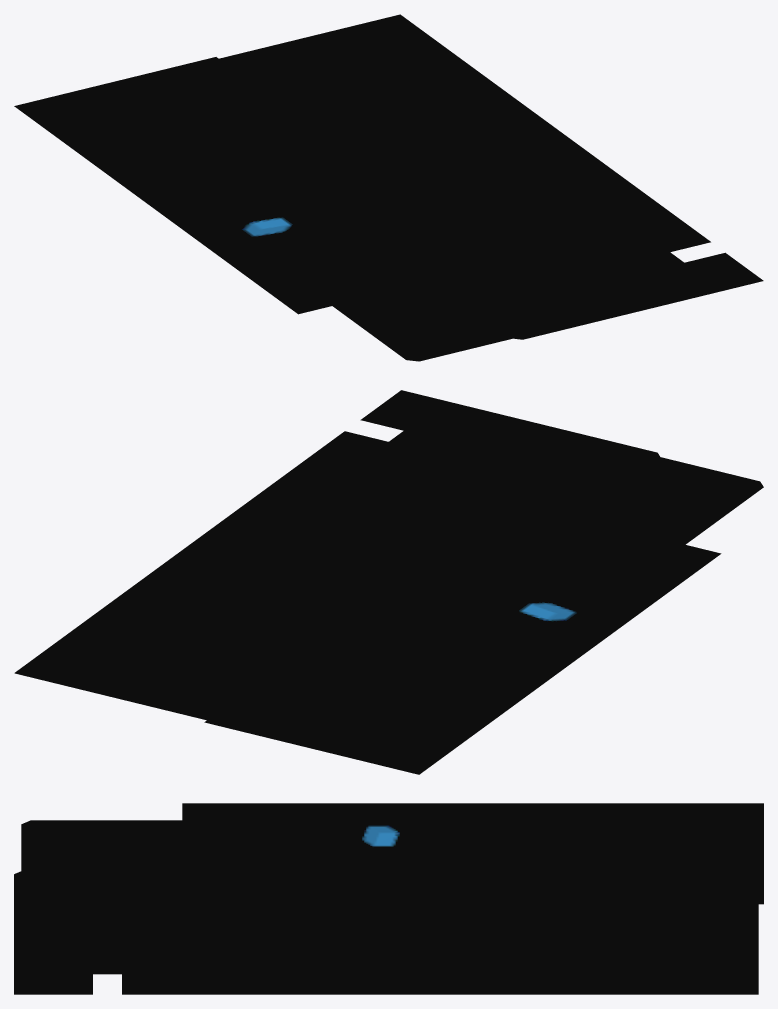
File: B1dimian.obj
3 renders of one model, top to bottom at view 1: azimuth 30°, elevation 25°; view 2: azimuth 150°, elevation 25°; view 3: azimuth 270°, elevation 25°, orthographic. The views are drawn at different scales.
Visible parts, largest first — view 1: B1dimian; view 2: B1dimian; view 3: B1dimian.
Part boxes in pixels (x1,y1,x2,y2): B1dimian: [14, 14, 763, 361]; B1dimian: [14, 390, 763, 774]; B1dimian: [14, 803, 763, 994].
Size of the model in its own units: 253 by 0 by 418.
